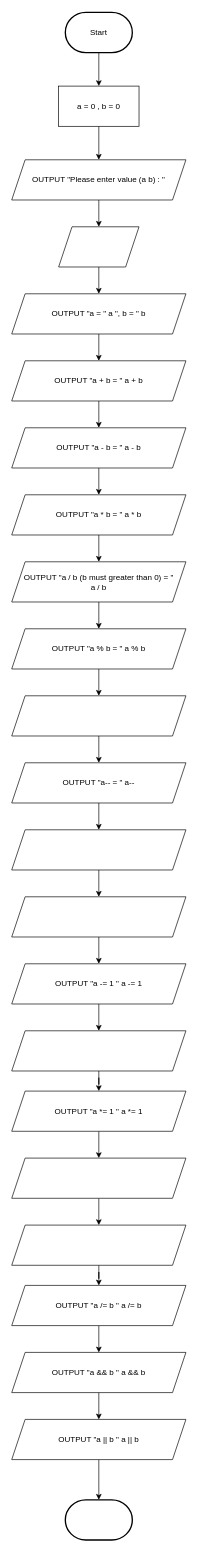
The diagram is 198 pixels wide and 1552 high, and some of its shapes have lost their labels. The shapes that lost their labels are listed below. From the top down, each one's centre as x and y in pixels, then its label:
(x=98, y=246): INPUT a, b
(x=98, y=715): OUTPUT "++a = " ++a
(x=98, y=849): OUTPUT "a += 1 " a += 1
(x=98, y=916): OUTPUT "a += b " a += b
(x=98, y=1050): OUTPUT "a -= b " a -= b
(x=98, y=1177): OUTPUT "a *= b " a *= b
(x=98, y=1244): OUTPUT "a /= 1 " a /= 1
(x=98, y=1519): Stop
